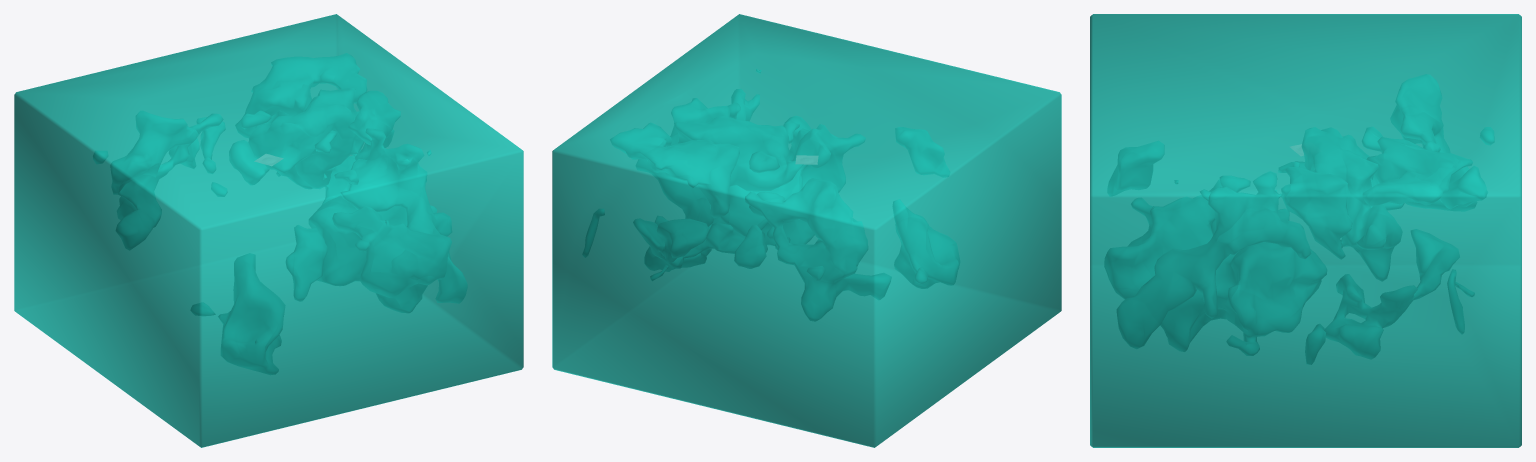
3 renders of one model, left to right at view 1: azimuth 30°, elevation 25°; view 2: azimuth 150°, elevation 25°; view 3: azimuth 270°, elevation 25°, orthographic. The views are drawn at different scales.
Visible parts, largest first — view 1: Liquid_Domain; view 2: Liquid_Domain; view 3: Liquid_Domain.
Part boxes in pixels (x1,y1,x2,y2): Liquid_Domain: (14, 14, 523, 447); Liquid_Domain: (552, 14, 1061, 447); Liquid_Domain: (1090, 14, 1521, 447).
Size of the model in its own units: 391 by 254 by 391.
